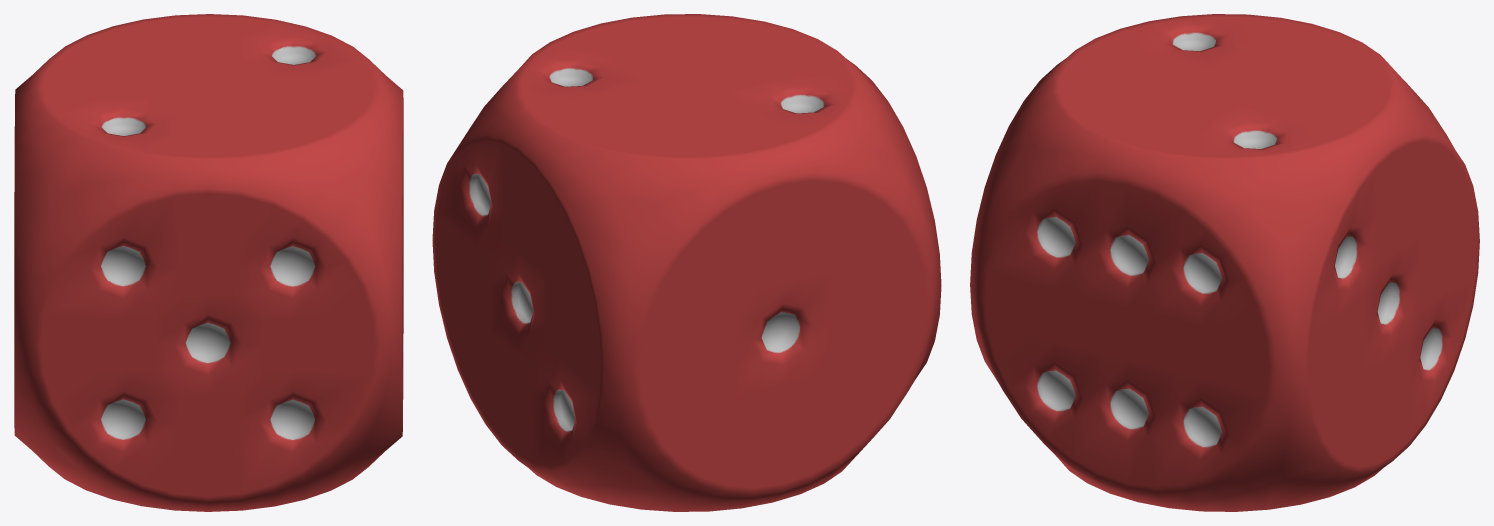
Rendered from diceCollada.dae.
3 renders of one model, left to right at view 1: azimuth 30°, elevation 25°; view 2: azimuth 150°, elevation 25°; view 3: azimuth 270°, elevation 25°, orthographic.
Parts seen in each view (by area): view 1: Dice; view 2: Dice; view 3: Dice.
Boxes of the visible parts, x1,y1,x2,y2 form: Dice: [14, 14, 403, 511]; Dice: [432, 14, 941, 511]; Dice: [970, 14, 1479, 511].
Bounding box in the file's own units: 0.0131 × 0.01 × 0.0131.
1 material, 1 textured.
